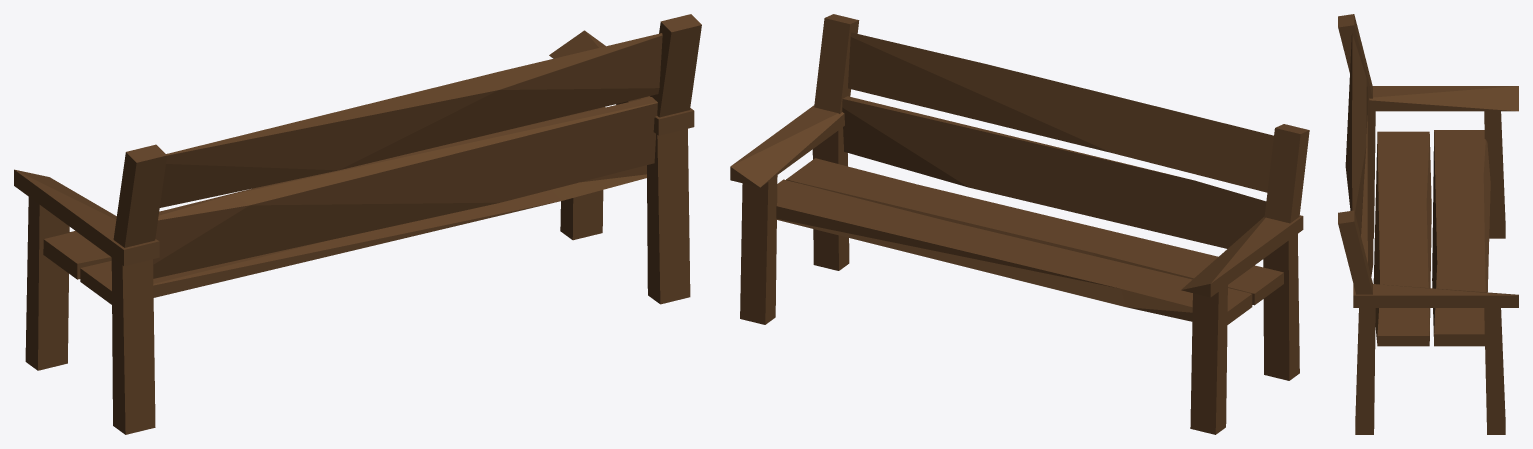
Rendered from Bench_1.glb.
3 views of the same model, side by side, from view 1: azimuth 30°, elevation 25°; view 2: azimuth 150°, elevation 25°; view 3: azimuth 270°, elevation 25° (orthographic). The views are drawn at different scales.
Parts seen in each view (by area): view 1: Bench_1; view 2: Bench_1; view 3: Bench_1.
Boxes of the visible parts, box(x1,y1,x2,y2) form: Bench_1: box(14, 14, 701, 434); Bench_1: box(730, 14, 1309, 434); Bench_1: box(1338, 14, 1518, 434).
Size of the model in its own units: 0.665 by 0.3158 by 0.2424.
